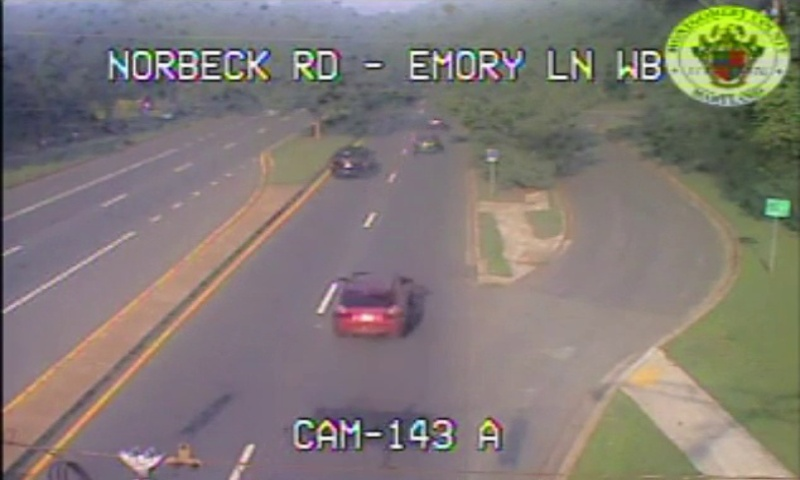car: (333, 276, 408, 335), (330, 146, 372, 174)
